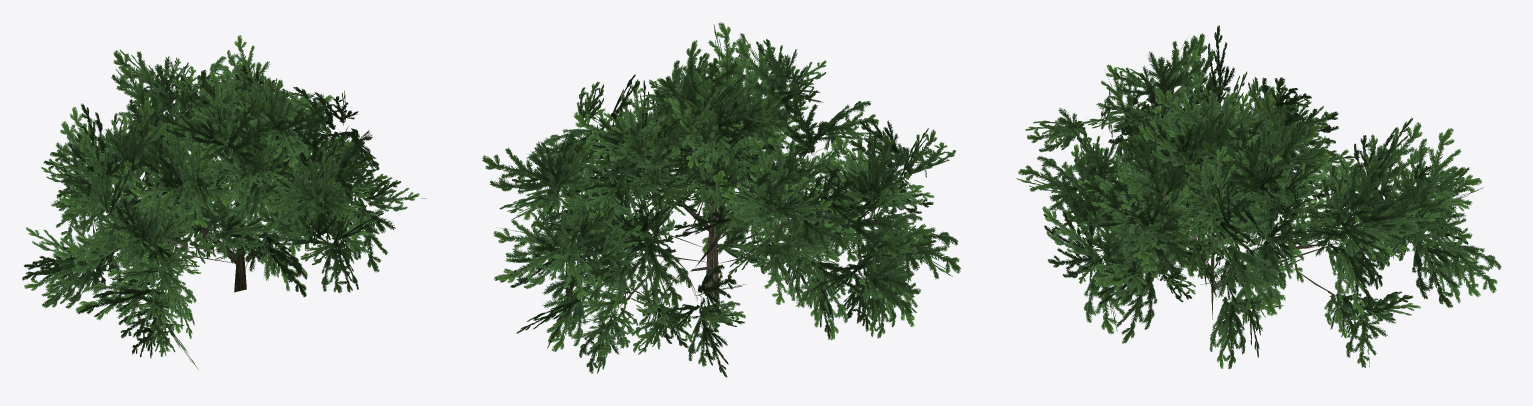
File: ez_bush_b.glb
3 renders of one model, left to right at view 1: azimuth 30°, elevation 25°; view 2: azimuth 150°, elevation 25°; view 3: azimuth 270°, elevation 25°, orthographic. The views are drawn at different scales.
Parts seen in each view (by area): view 1: Tree; view 2: Tree; view 3: Tree.
Part boxes in pixels (x1,y1,x2,y2): Tree: (22,35,426,369); Tree: (482,22,960,377); Tree: (1016,25,1501,368).
Bounding box in the file's own units: 33.94 × 25.7 × 36.34.
2 materials, 2 textured.
